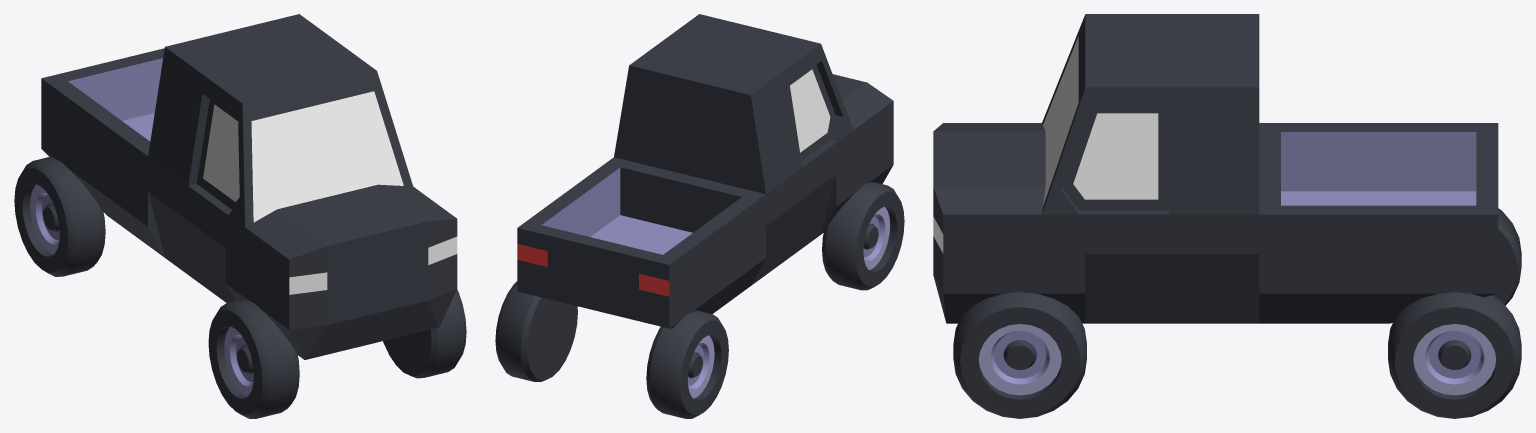
File: BlackSUV.fbx
3 views of the same model, side by side, from view 1: azimuth 30°, elevation 25°; view 2: azimuth 150°, elevation 25°; view 3: azimuth 270°, elevation 25° (orthographic). The views are drawn at different scales.
Visible parts, largest first — view 1: body_topVan, body_frontSUV, wheel_standard (×3), body_backBedClosed, body_edge; view 2: body_topVan, body_backBedClosed, wheel_standard (×3), body_edge, body_frontSUV; view 3: body_backBedClosed, body_topVan, wheel_standard (×3), body_edge, body_frontSUV.
Boxes of the visible parts, box(x1,y1,x2,y2) form: body_topVan: box(148, 14, 412, 227); body_frontSUV: box(235, 184, 457, 359); wheel_standard (×3): box(14, 157, 466, 418); body_backBedClosed: box(41, 48, 164, 250); body_edge: box(138, 146, 240, 302); body_topVan: box(614, 14, 853, 194); body_backBedClosed: box(517, 163, 757, 328); wheel_standard (×3): box(495, 182, 904, 418); body_edge: box(605, 137, 844, 291); body_frontSUV: box(832, 74, 893, 208); body_backBedClosed: box(1281, 123, 1498, 323); body_topVan: box(1042, 14, 1259, 214); wheel_standard (×3): box(953, 208, 1521, 418); body_edge: box(1063, 123, 1280, 323); body_frontSUV: box(933, 123, 1063, 323).
Bounding box in the file's own units: 12.16 × 16.08 × 27.08.
